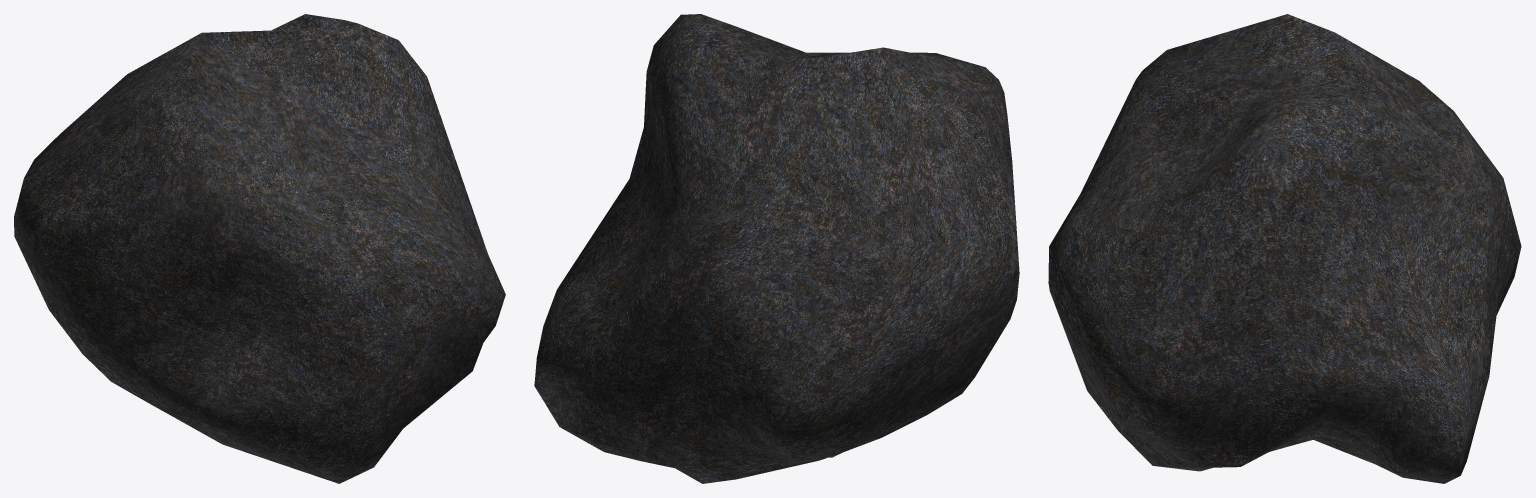
Rendered from asteroid_metal_large_s02_l1.fbx.
The picture shows the model from 3 angles, left to right: view 1: azimuth 30°, elevation 25°; view 2: azimuth 150°, elevation 25°; view 3: azimuth 270°, elevation 25°; orthographic projection. The views are drawn at different scales.
Parts seen in each view (by area): view 1: mesh_node; view 2: mesh_node; view 3: mesh_node.
Boxes of the visible parts, x1=… form: mesh_node: x1=14, y1=14, x2=505, y2=483; mesh_node: x1=534, y1=14, x2=1019, y2=483; mesh_node: x1=1048, y1=14, x2=1521, y2=483.
Bounding box in the file's own units: 110 × 110 × 114.
